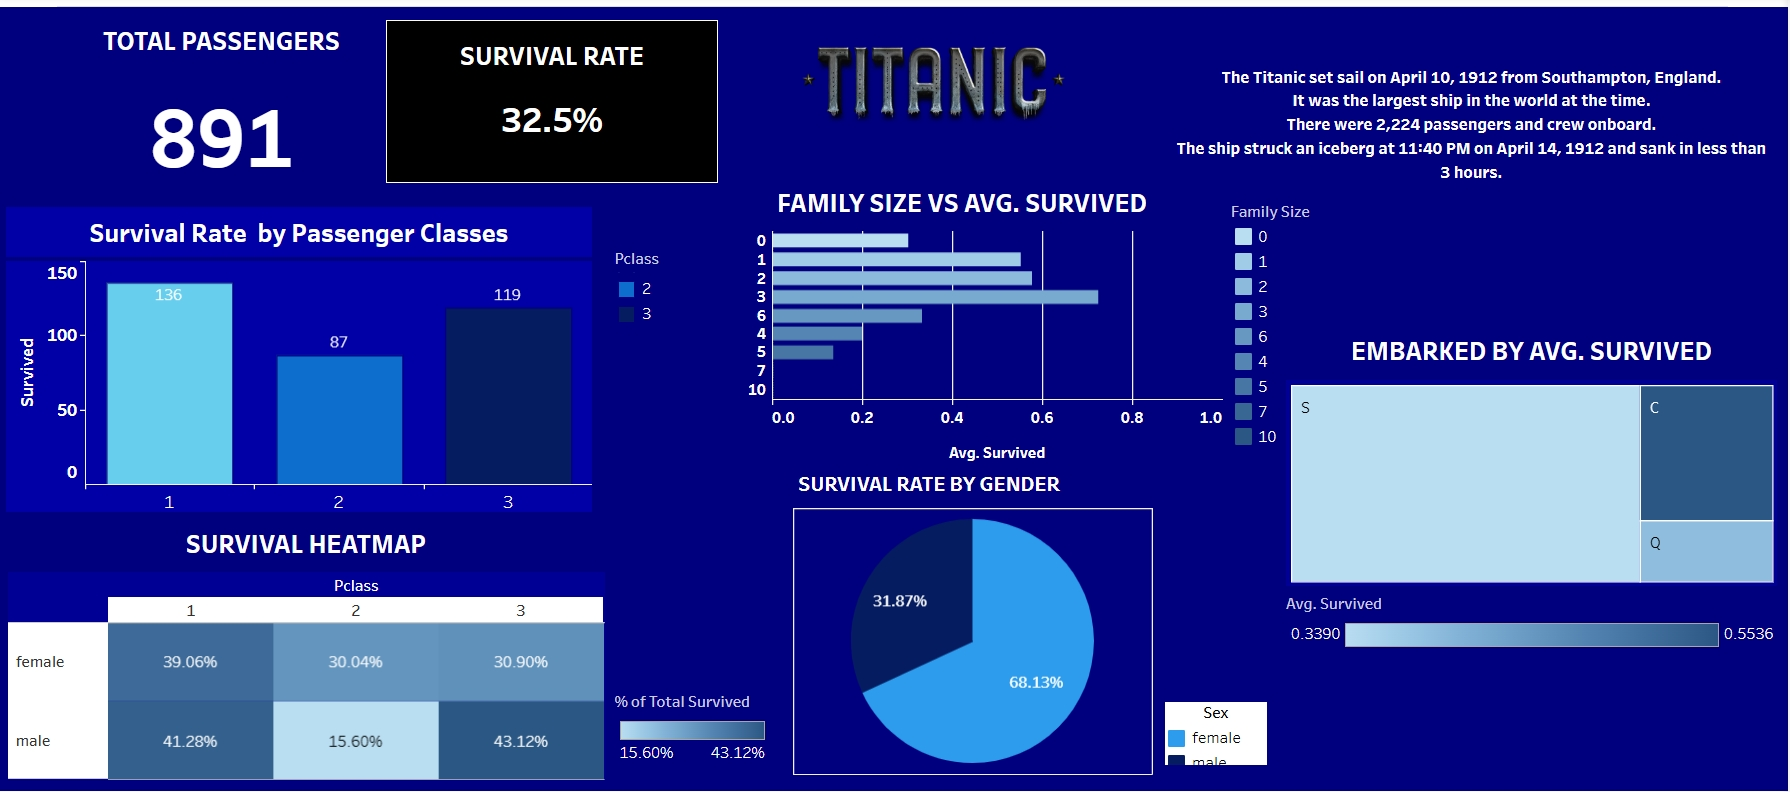

Layout of this report page (visuals, bound fields, positions):
{"tool":"tableau","page":{"name":"Dashboard 1","canvas":[1000,1000],"units":"permille","ordinal":0},"visuals":[{"type":"image","param":"Image/Individual-Show-Header-Logo-PNG-Titanic2.png","box":[449.8,5,167.5,169.8]},{"type":"text","box":[657,6.2,332.5,284.6]},{"type":"image","box":[5,10,990.1,980]},{"type":"text","box":[214,10,191.7,221]},{"type":"text","box":[10.6,17.5,229.5,214.7]},{"type":"worksheet","title":"Sheet 5","mark":"Bar","rows":["Family_Size"],"cols":["Survived"],"box":[385.9,243.5,298.4,333.3]},{"type":"worksheet","title":"Survival Rate by Passenger Classes","mark":"Automatic","rows":["Survived"],"cols":["Pclass"],"box":[5,254.7,327.5,389.5]},{"type":"legend","title":"Survival Rate by Passenger Classes","param":"[federated.0c65i0o0gighat1ay2n8j1483zhw].[none:Pclass:ok]","box":[344.9,307.1,39.7,106.1]},{"type":"legend","title":"Sheet 5","param":"[federated.0c65i0o0gighat1ay2n8j1483zhw].[none:Family_Size:ok]","box":[692.9,309.6,86.9,263.4]},{"type":"worksheet","title":"Sheet 6","mark":"Automatic","box":[719.6,407,274.2,333.3]},{"type":"worksheet","title":"Sheet 3","mark":"Pie","box":[444.8,579.3,201,400.8]},{"type":"worksheet","title":"Sheet 4","mark":"Automatic","rows":["Sex"],"cols":["Pclass"],"box":[6.2,651.7,333.1,333.3]},{"type":"legend","title":"Sheet 6","param":"[federated.0c65i0o0gighat1ay2n8j1483zhw].[avg:Survived:qk]","box":[719.6,747.8,275.4,109.9]},{"type":"legend","title":"Sheet 4","param":"[federated.0c65i0o0gighat1ay2n8j1483zhw].[pcto:sum:Survived:qk]","box":[344.9,872.7,86.9,109.9]},{"type":"legend","title":"Sheet 3","param":"[federated.0c65i0o0gighat1ay2n8j1483zhw].[none:Sex:nk]","box":[652,886.4,57.1,79.9]}]}

Visuals, with their boxes on the dashboard's canvas, which has no fixed pixel size, in thousandths of its width and height (x1, y1, x2, y2). These are canvas units, not pixel positions in the 1790x792 screenshot, which may show the page scaled, cropped or inside an application window:
image: detection(450, 5, 617, 175)
text: detection(657, 6, 990, 291)
image: detection(5, 10, 995, 990)
text: detection(214, 10, 406, 231)
text: detection(11, 18, 240, 232)
"Sheet 5" worksheet (Bar marks): detection(386, 244, 684, 577)
"Survival Rate by Passenger Classes" worksheet: detection(5, 255, 332, 644)
"Survival Rate by Passenger Classes" legend: detection(345, 307, 385, 413)
"Sheet 5" legend: detection(693, 310, 780, 573)
"Sheet 6" worksheet: detection(720, 407, 994, 740)
"Sheet 3" worksheet (Pie marks): detection(445, 579, 646, 980)
"Sheet 4" worksheet: detection(6, 652, 339, 985)
"Sheet 6" legend: detection(720, 748, 995, 858)
"Sheet 4" legend: detection(345, 873, 432, 983)
"Sheet 3" legend: detection(652, 886, 709, 966)
